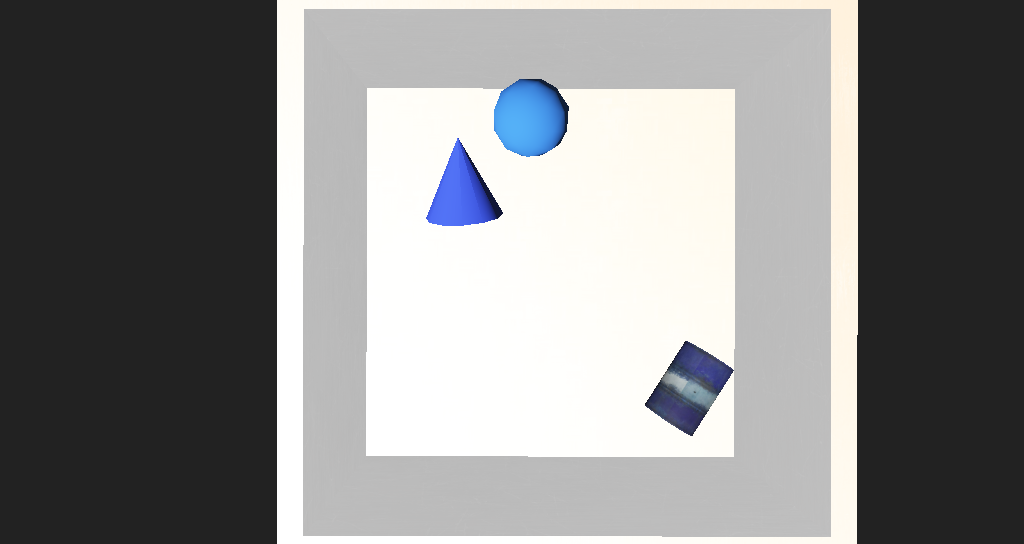cone: (579, 305, 660, 363)
cylinder: (394, 177, 468, 243)
sphere: (461, 160, 522, 203)
